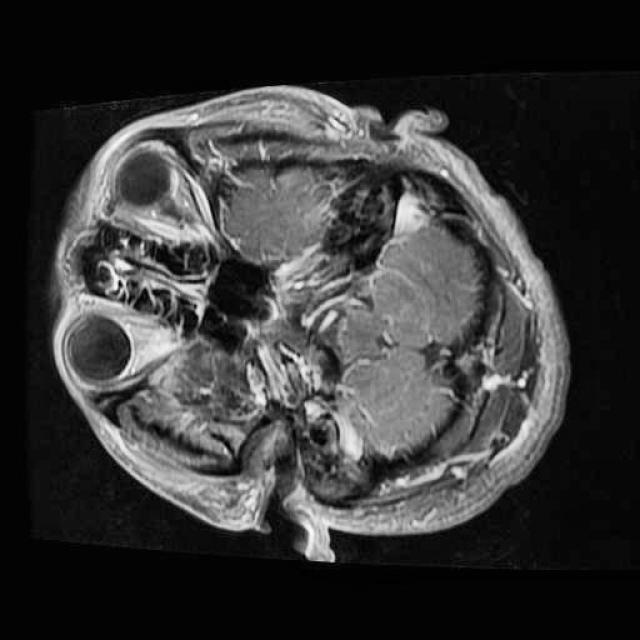Tumor: (162, 322, 262, 440)
